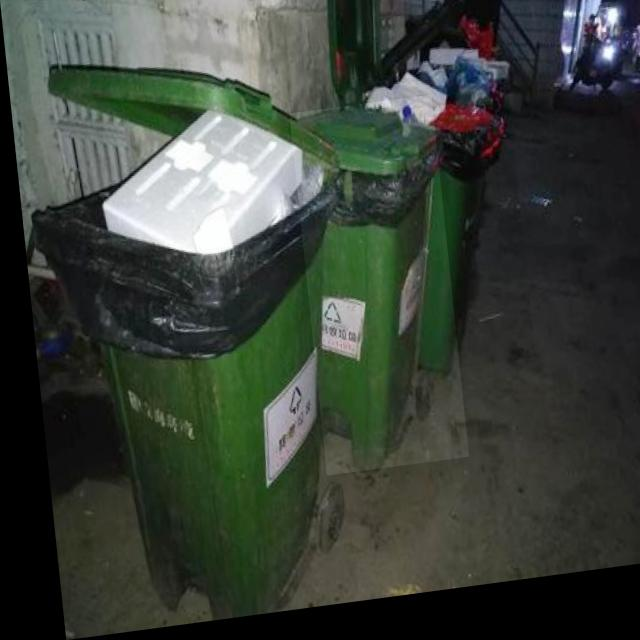garbage_bin: (286, 106, 458, 483)
overflow: (20, 102, 363, 637), (353, 32, 527, 387)
